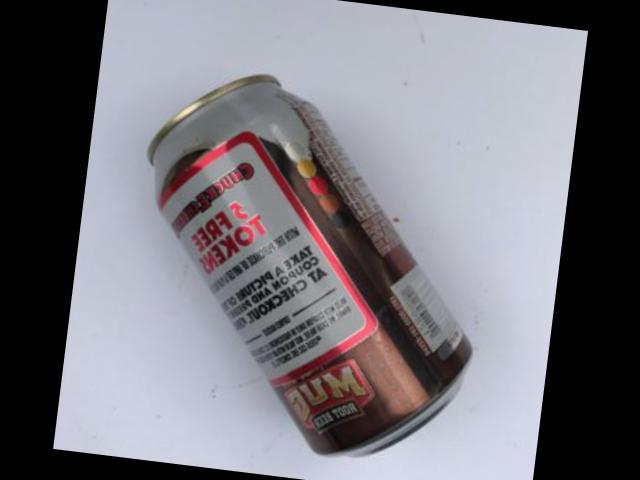metal: (151, 77, 473, 457)
